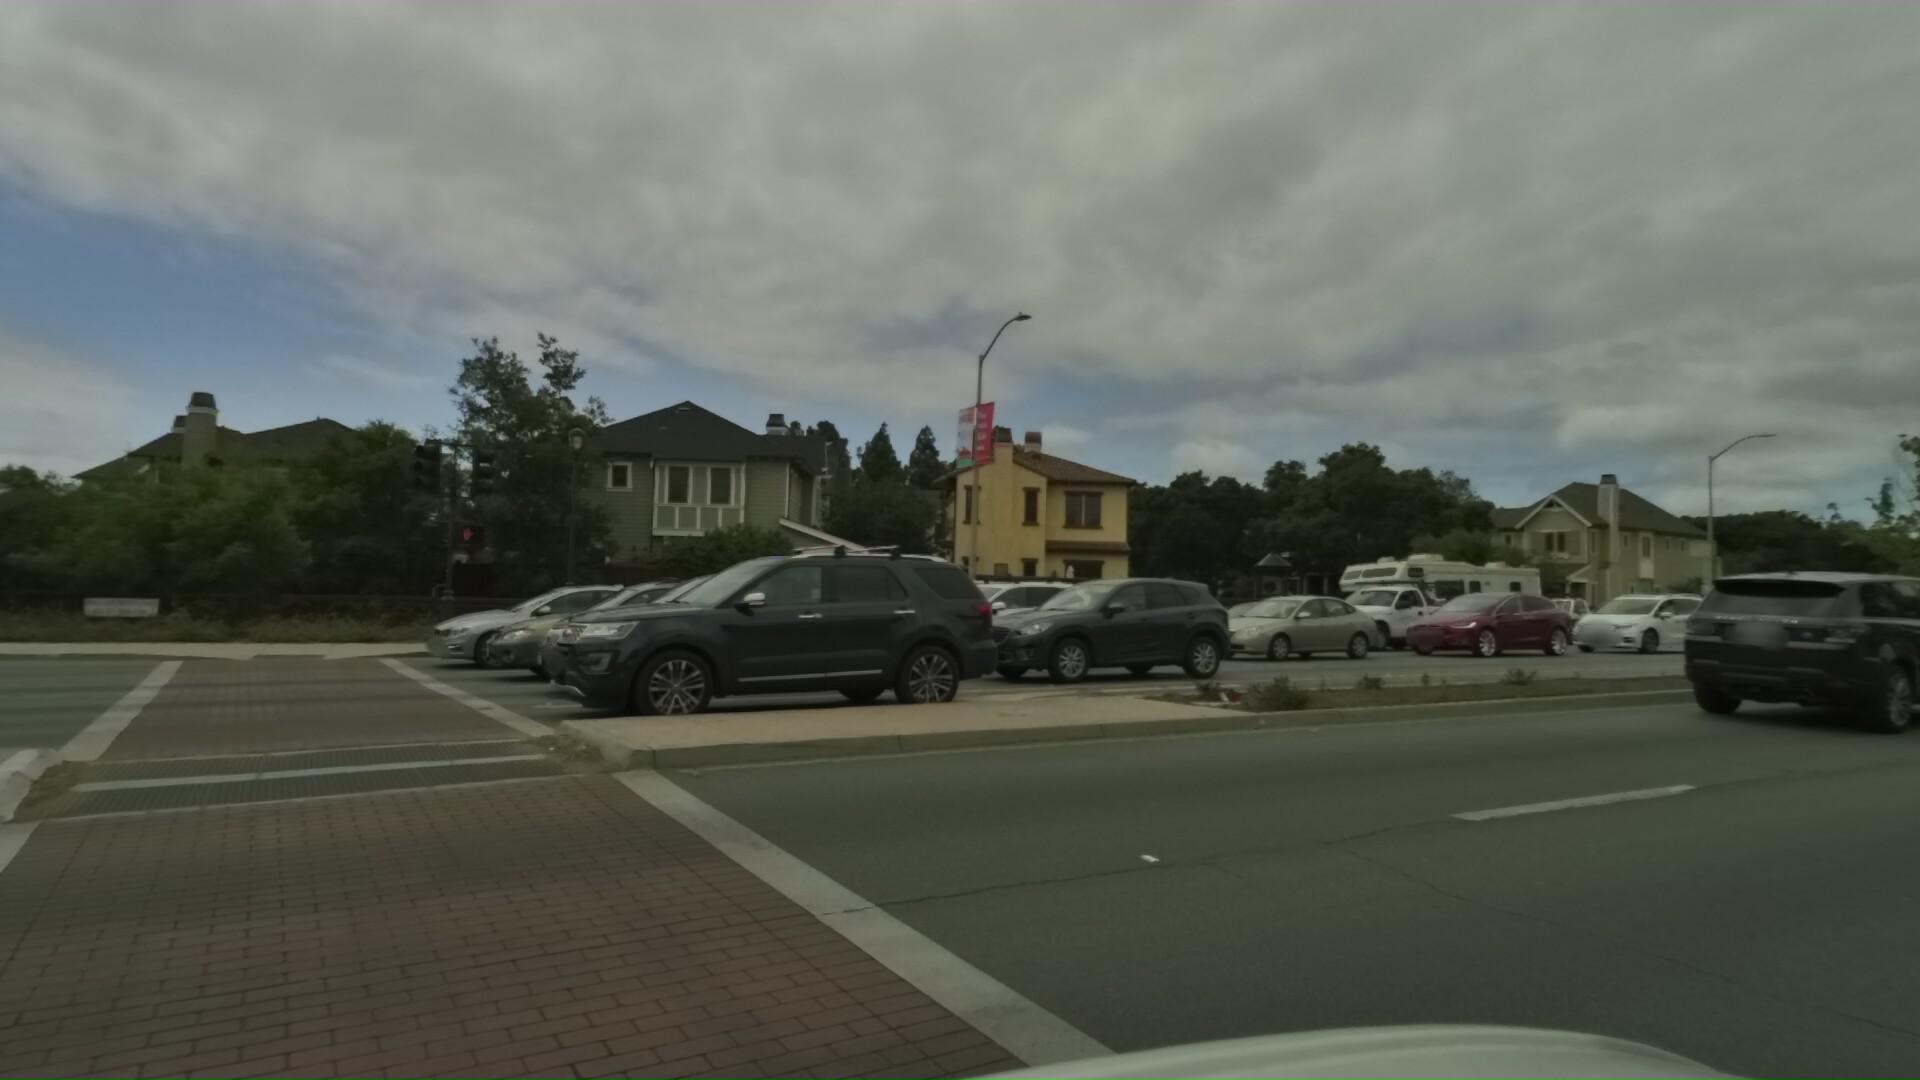car: (483, 505, 1007, 735), (483, 547, 881, 707), (1656, 550, 1920, 746), (439, 559, 787, 687), (934, 562, 1238, 686), (837, 554, 1114, 671), (392, 574, 690, 669), (804, 556, 1033, 659), (1280, 558, 1480, 647), (1174, 578, 1385, 658), (1377, 576, 1578, 653), (1542, 575, 1724, 646), (1040, 584, 1225, 650), (1485, 574, 1634, 640), (1151, 589, 1312, 650), (1811, 597, 1920, 651), (1905, 574, 1920, 632)
other_vehicle: (1309, 529, 1547, 641), (1826, 566, 1920, 632)
